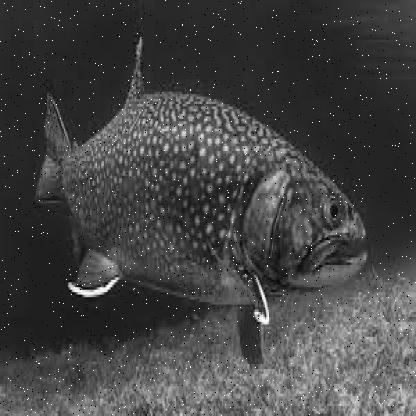fish: (33, 37, 371, 365)
